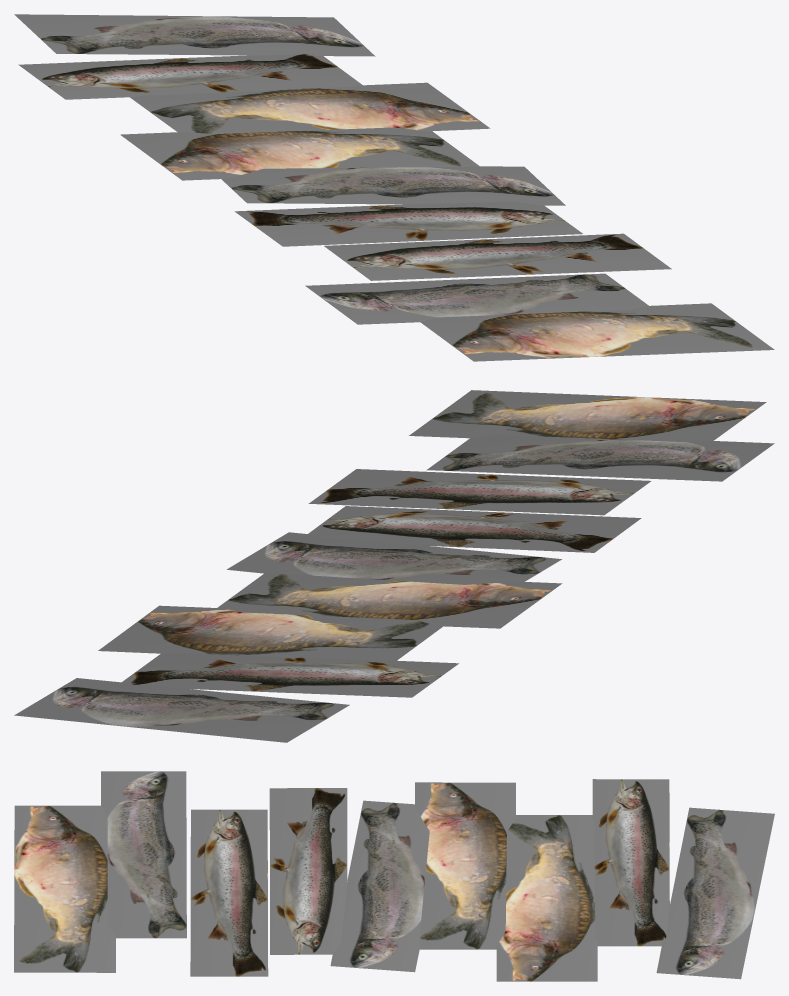
The model's file is fish_booth01_LOD03.fbx.
The picture shows the model from 3 angles, top to bottom: view 1: azimuth 30°, elevation 25°; view 2: azimuth 150°, elevation 25°; view 3: azimuth 270°, elevation 25°; orthographic projection. The views are drawn at different scales.
Parts seen in each view (by area): view 1: Mesh Object; view 2: Mesh Object; view 3: Mesh Object.
Part boxes in pixels (x1=…): Mesh Object: x1=14, y1=14, x2=774, y2=361; Mesh Object: x1=14, y1=390, x2=774, y2=742; Mesh Object: x1=14, y1=771, x2=774, y2=981.
Size of the model in its own units: 0.8075 by 0.157 by 1.75.
